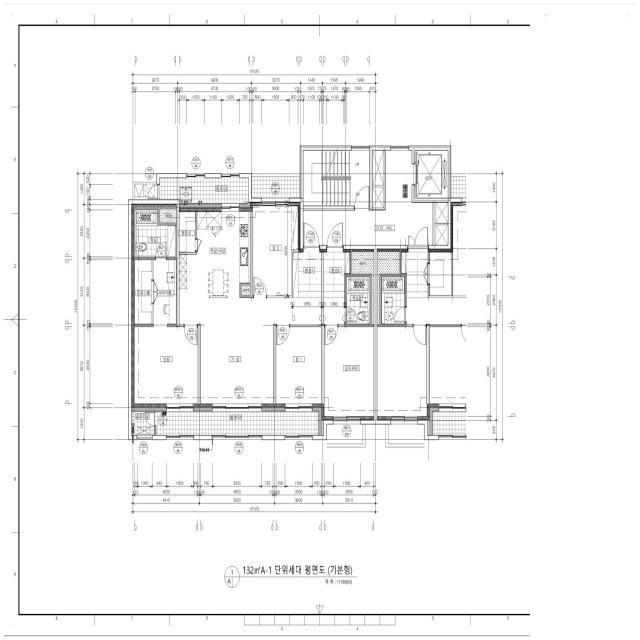space_balconi: (156, 412, 318, 435), (160, 178, 249, 203), (252, 177, 300, 198)
space_bedroom: (132, 327, 198, 407), (322, 327, 374, 420), (251, 203, 300, 296), (276, 327, 321, 407)
space_dressroom: (153, 260, 176, 327), (132, 260, 152, 324)
space_elevator: (415, 150, 448, 198)
space_elevator_hall: (303, 150, 433, 246)
space_front: (323, 250, 350, 325), (293, 250, 321, 298)
space_kitchen: (179, 208, 250, 298)
space_living_room: (179, 298, 321, 407)
space_other: (352, 250, 374, 324), (373, 150, 384, 185), (436, 203, 448, 223), (436, 225, 448, 245), (373, 187, 384, 208), (160, 209, 176, 223), (241, 285, 250, 295)
space_outdoor_room: (132, 412, 154, 435)
space_staircase: (303, 150, 369, 206)
space_toilet: (135, 209, 176, 257), (346, 276, 370, 324)
